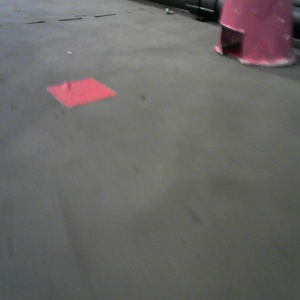Right: (212, 1, 298, 66)
